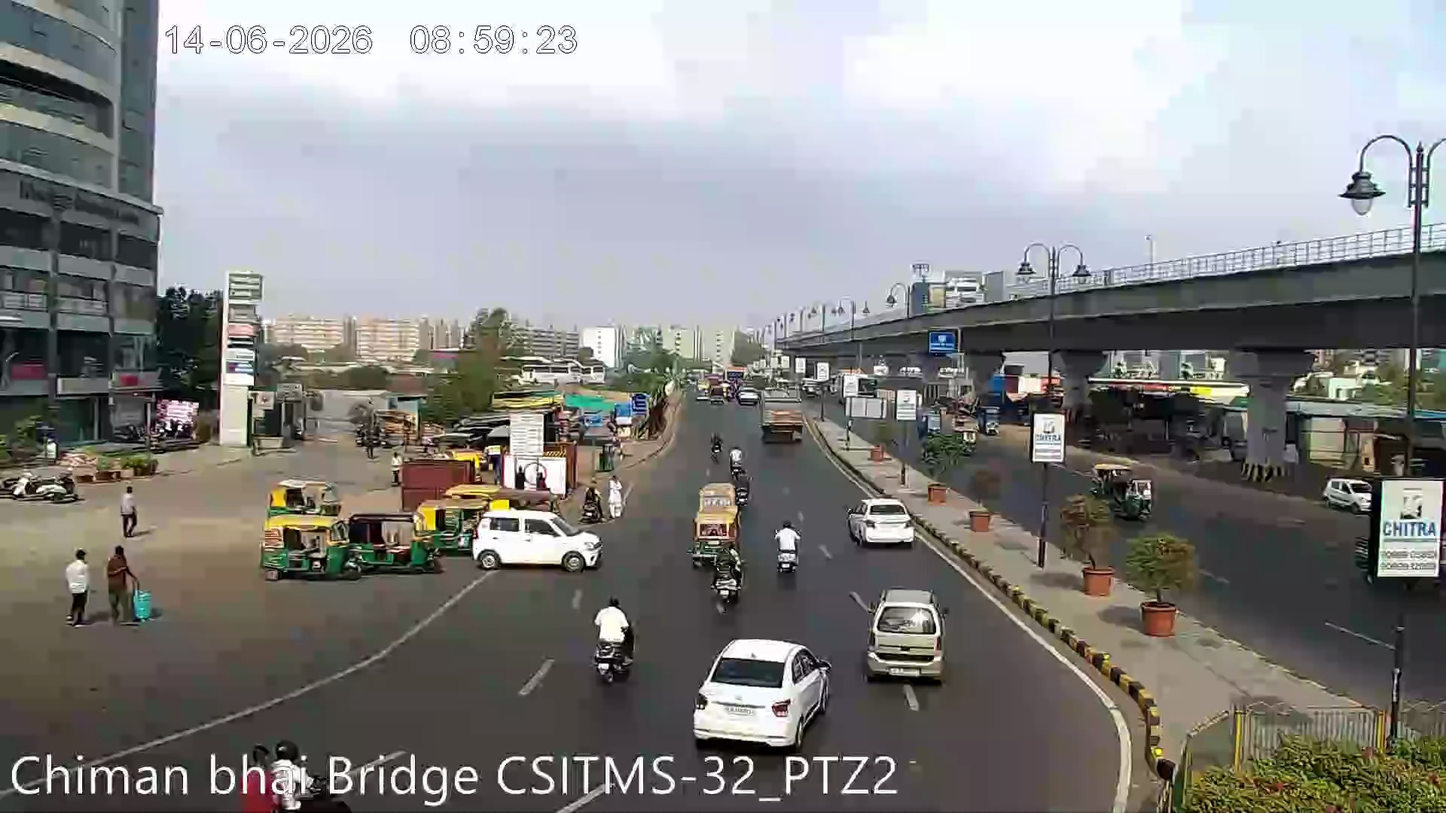auto_rickshaw: (333, 504, 440, 576), (259, 508, 349, 578), (1088, 457, 1157, 521), (691, 480, 742, 559), (410, 496, 479, 551), (693, 479, 742, 537)
car: (691, 632, 835, 743), (468, 501, 606, 573), (863, 583, 947, 679), (845, 491, 916, 548), (1322, 471, 1376, 514)
pedestrian: (104, 540, 141, 628), (60, 542, 95, 630), (115, 479, 143, 539), (606, 471, 628, 520)
truck: (753, 390, 812, 445)
two_wheeler: (588, 593, 640, 685), (709, 554, 747, 612), (772, 515, 803, 576), (579, 476, 604, 522)
